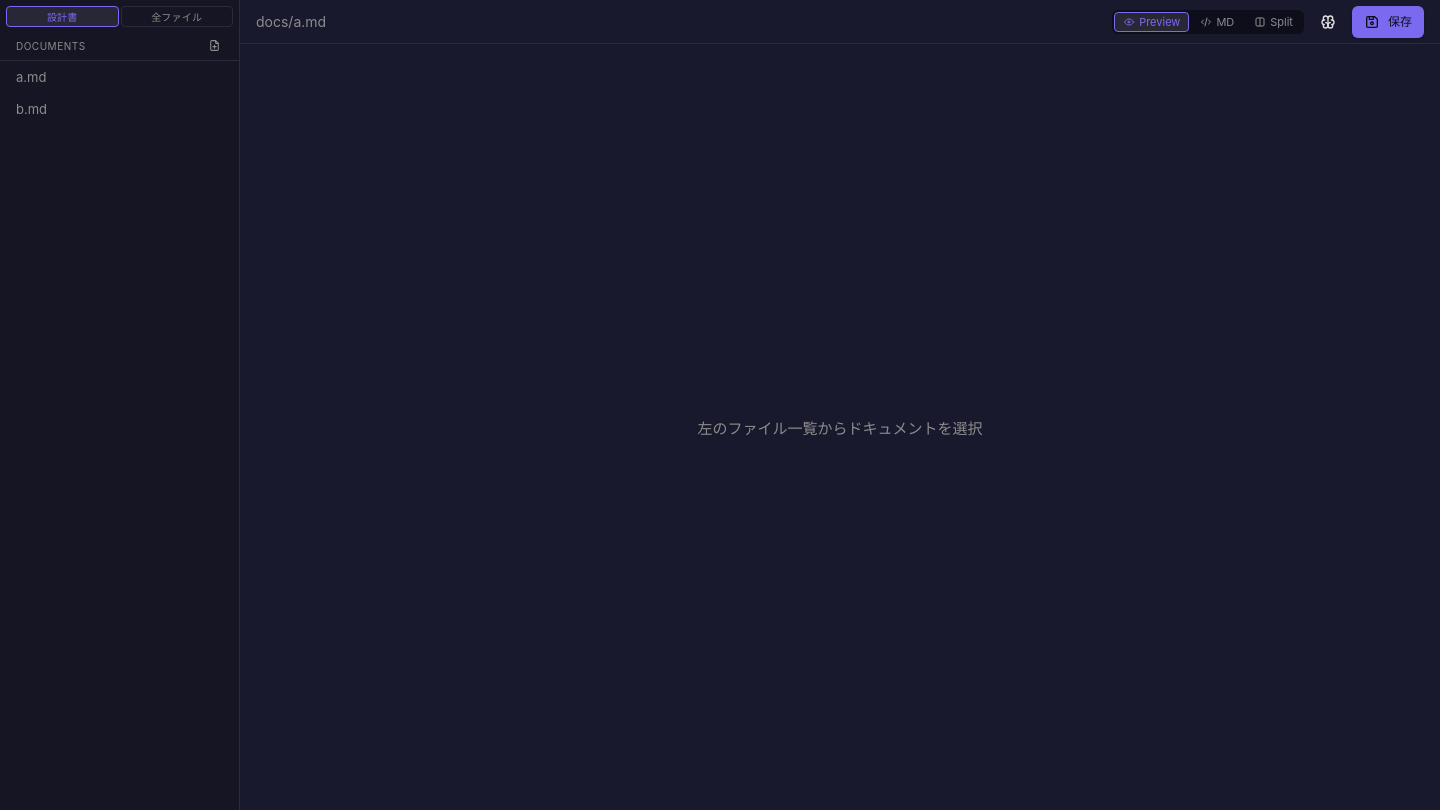
EditorScreen — UnsavedWarningModal wire-up › モーダルの「キャンセル」でモーダルが閉じて切り替えが起きない
Click the button "b.md" at (107, 109), box [2,93,212,125]
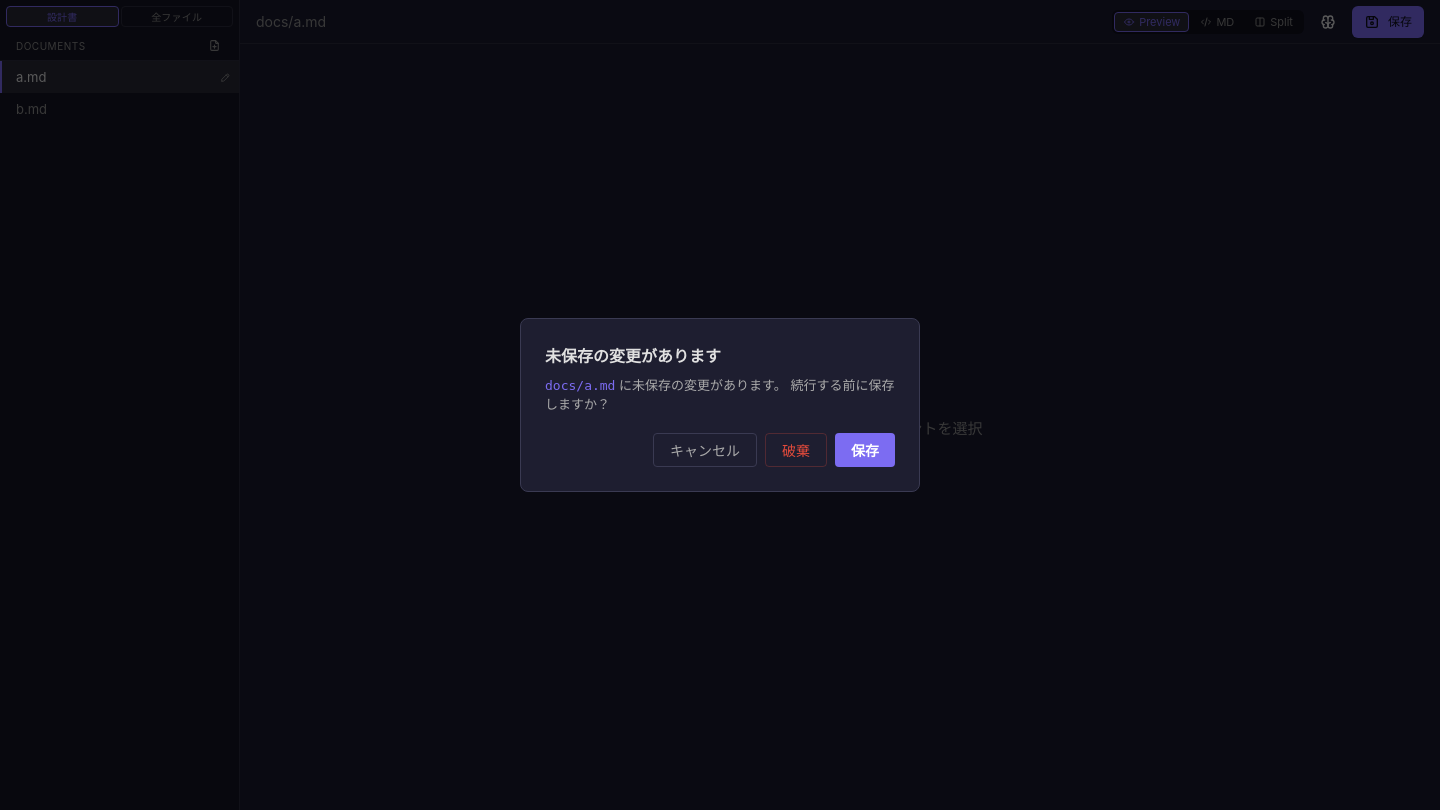
Result: the dialog is shown at [520,318,920,492]
Click the button "キャンセル" at (705, 450), box [653,433,757,467]
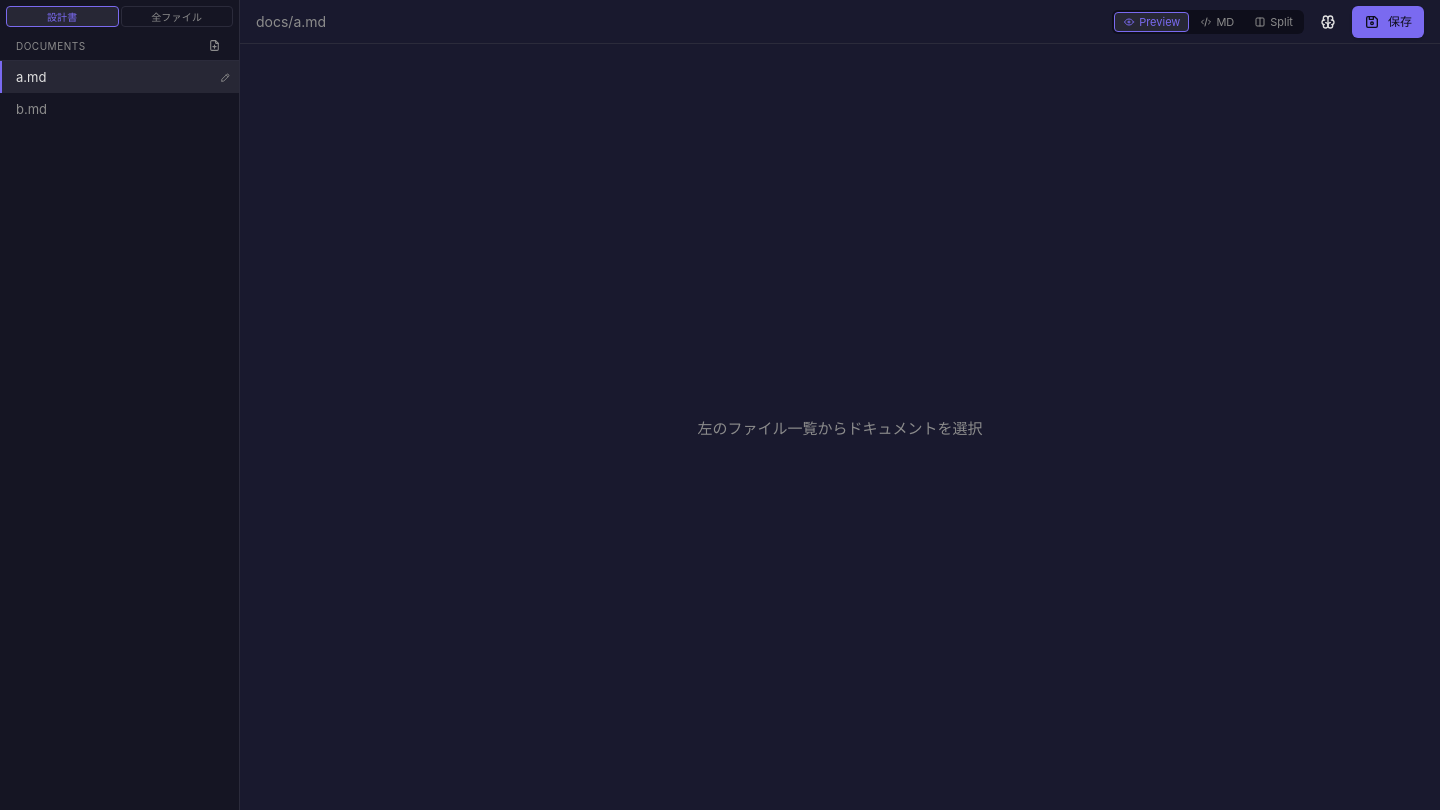
Result: the dialog is gone
